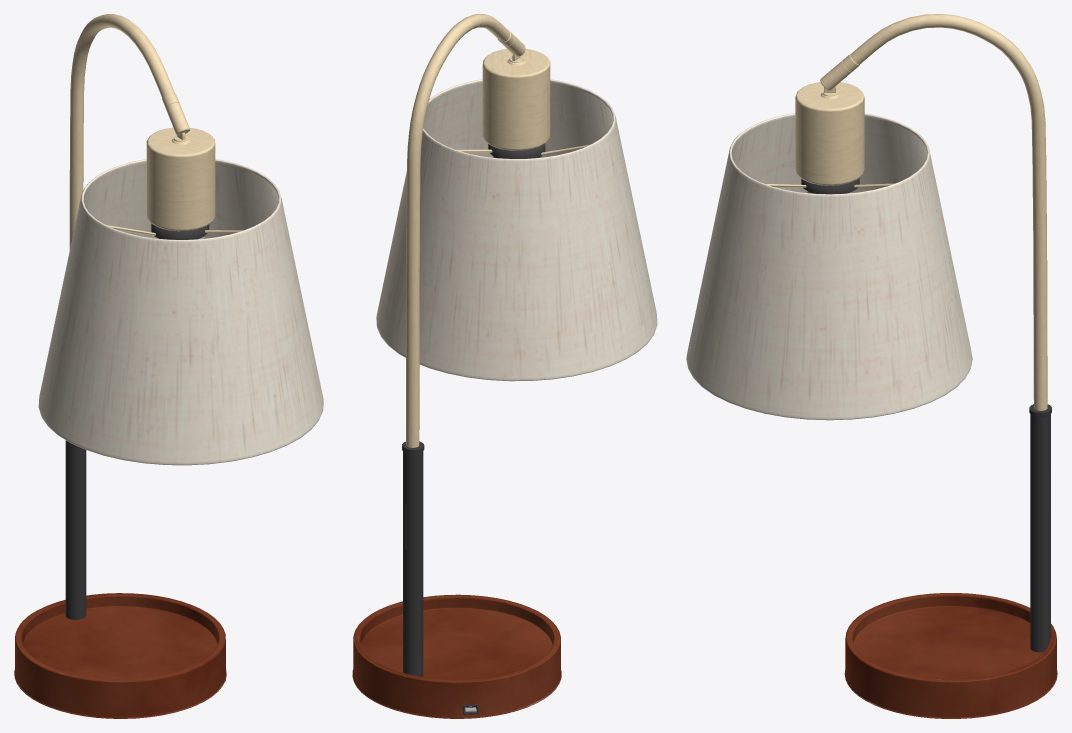
Rendered from plant_B073P46SHG.glb.
The picture shows the model from 3 angles, left to right: view 1: azimuth 30°, elevation 25°; view 2: azimuth 150°, elevation 25°; view 3: azimuth 270°, elevation 25°; orthographic projection.
Parts seen in each view (by area): view 1: RootNode; view 2: RootNode; view 3: RootNode.
Part boxes in pixels (x1,y1,x2,y2): RootNode: (14, 14, 323, 718); RootNode: (352, 14, 657, 718); RootNode: (686, 14, 1057, 718).
Bounding box in the file's own units: 0.2107 × 0.5358 × 0.2732.
1 material, 1 textured.
